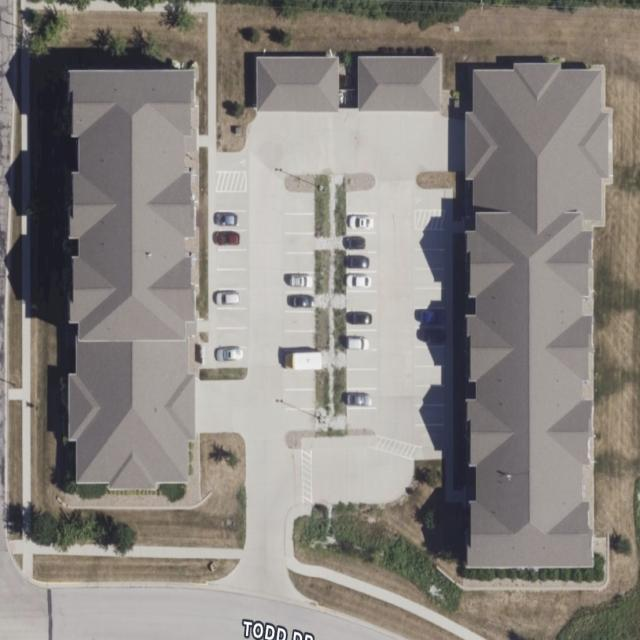Empty: (282, 191, 314, 213), (284, 409, 316, 431), (213, 270, 247, 290), (347, 191, 377, 213), (216, 191, 248, 211), (216, 152, 248, 172), (214, 250, 246, 270), (216, 308, 248, 328), (216, 328, 248, 348), (284, 330, 316, 350), (283, 252, 315, 272), (282, 233, 314, 253), (284, 370, 316, 390), (284, 390, 316, 410), (414, 248, 446, 268), (414, 190, 446, 210), (284, 313, 316, 332), (282, 214, 314, 233), (347, 350, 377, 370), (348, 408, 378, 428), (415, 386, 445, 406), (415, 366, 445, 386), (415, 288, 445, 308), (415, 268, 445, 288), (415, 230, 445, 250), (347, 369, 377, 388), (416, 405, 444, 425), (416, 348, 444, 367), (348, 292, 377, 310)
Parked: (214, 288, 248, 308), (216, 211, 248, 231), (414, 308, 446, 328), (216, 348, 248, 368), (347, 272, 378, 292), (347, 388, 378, 408), (213, 232, 247, 250), (347, 310, 377, 330), (347, 252, 377, 272), (347, 232, 377, 252), (285, 292, 315, 312), (348, 330, 377, 350), (414, 328, 446, 346), (347, 214, 377, 232), (284, 273, 314, 291)
